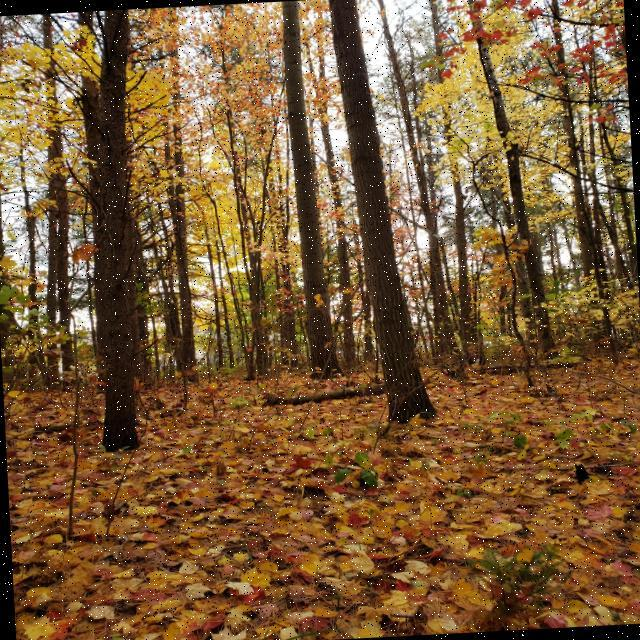fallen_object: (238, 359, 449, 416)
